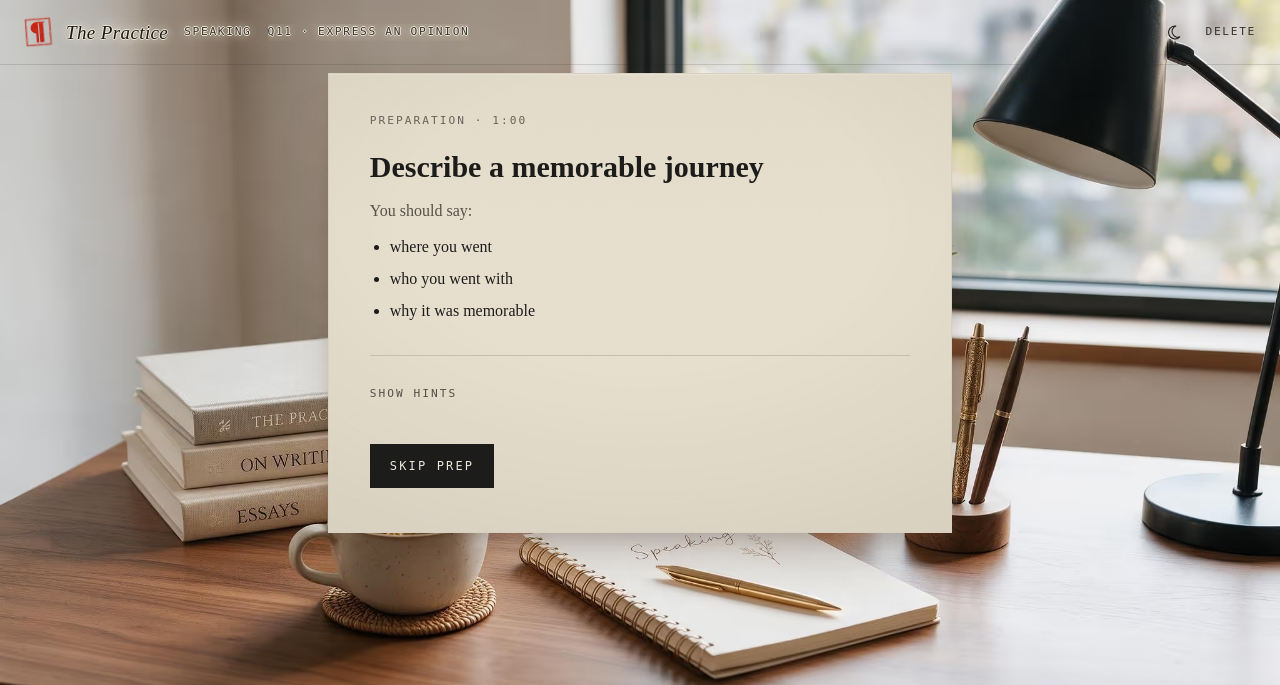
SpeakingAttemptPage prep hints › shows Show hints on prep and PATCHes hintsOpened
The width and height of the screenshot is (1280, 685).
Click the button "Show hints".
click(414, 395)  # box x1=370 y1=386 x2=457 y2=403
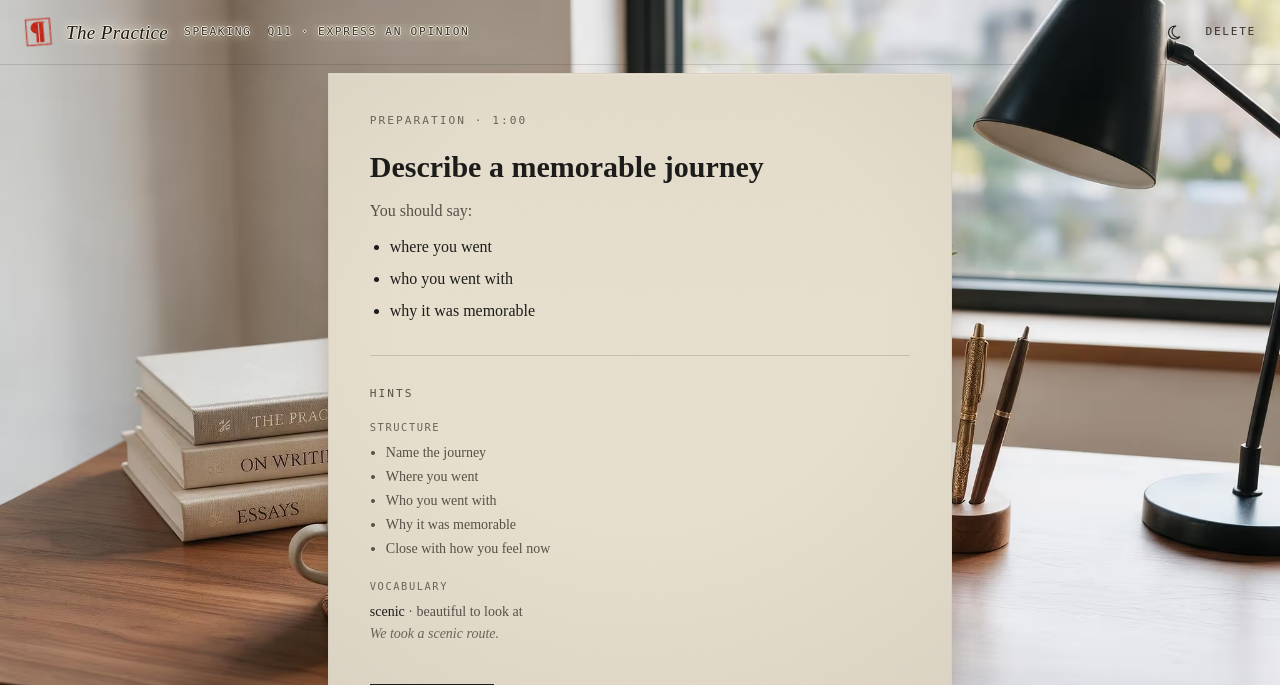
Expected: the heading "Structure" is shown, x1=370 y1=421 x2=440 y2=433
Expected: the list item "Name the journey" is shown, x1=386 y1=445 x2=486 y2=460
Expected: the text "scenic" is shown, x1=370 y1=604 x2=405 y2=619
